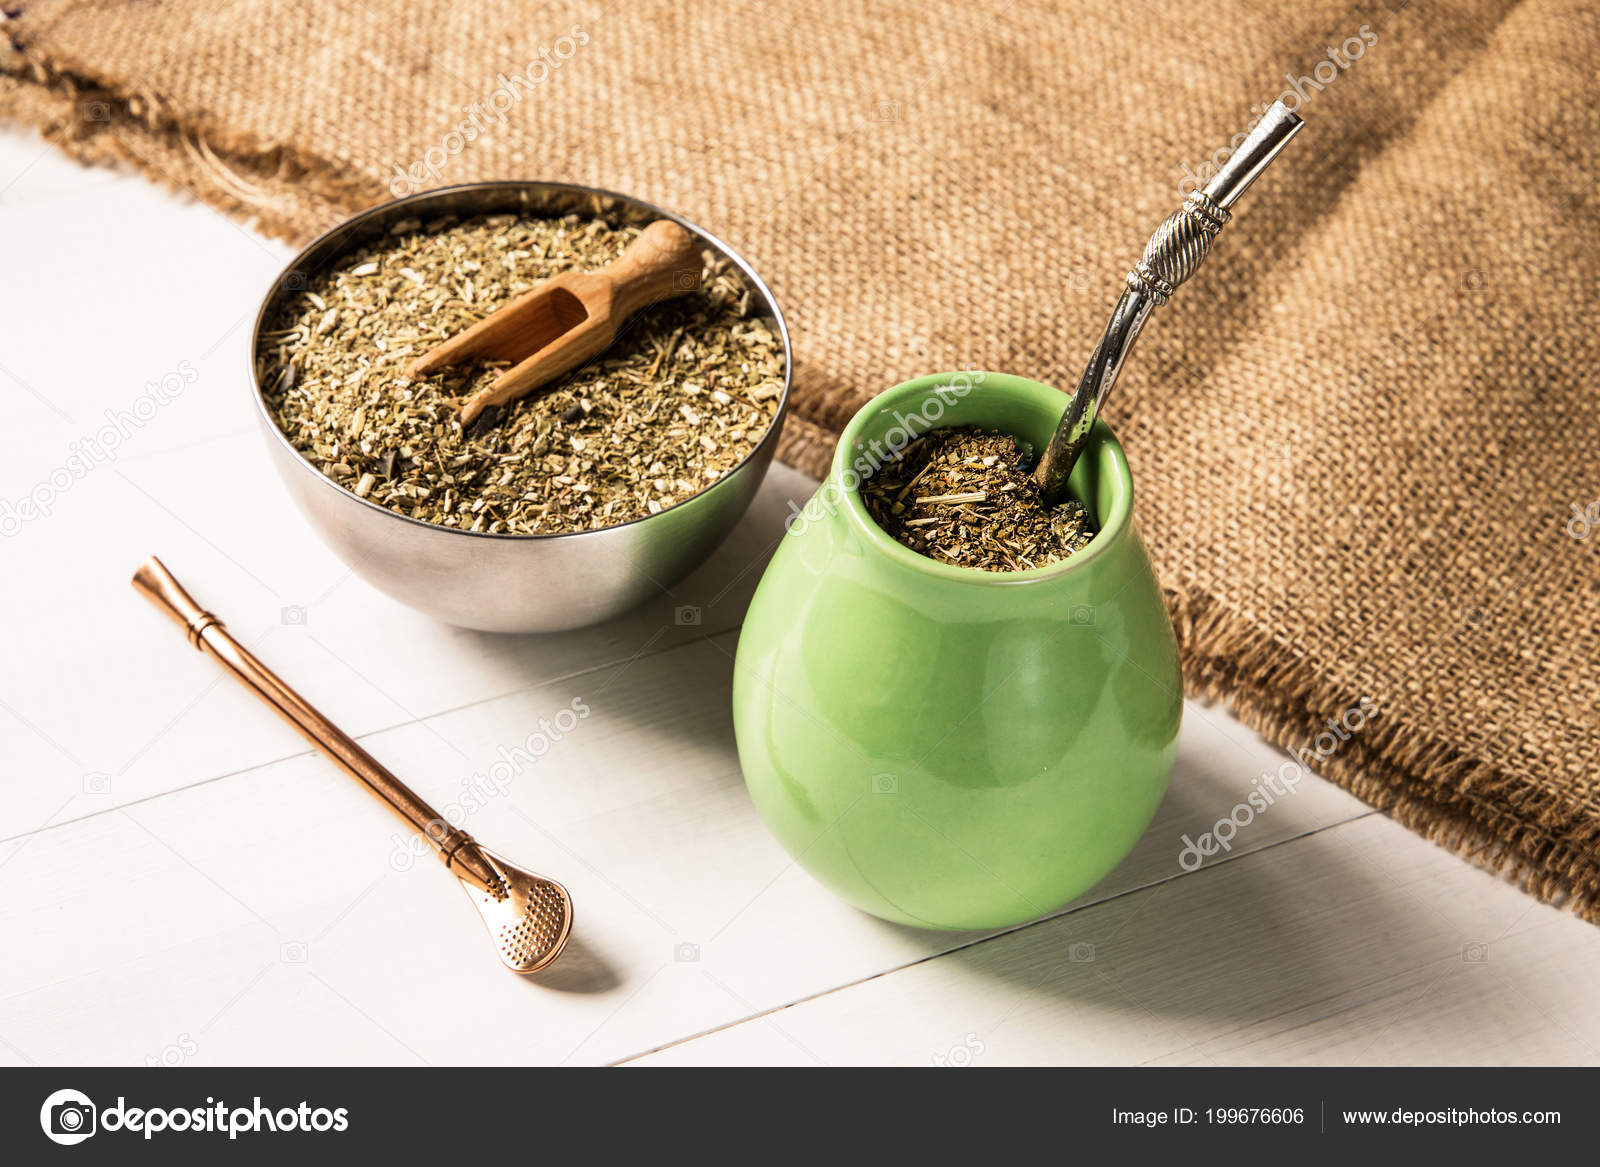guampa: (693, 53, 1338, 951)
